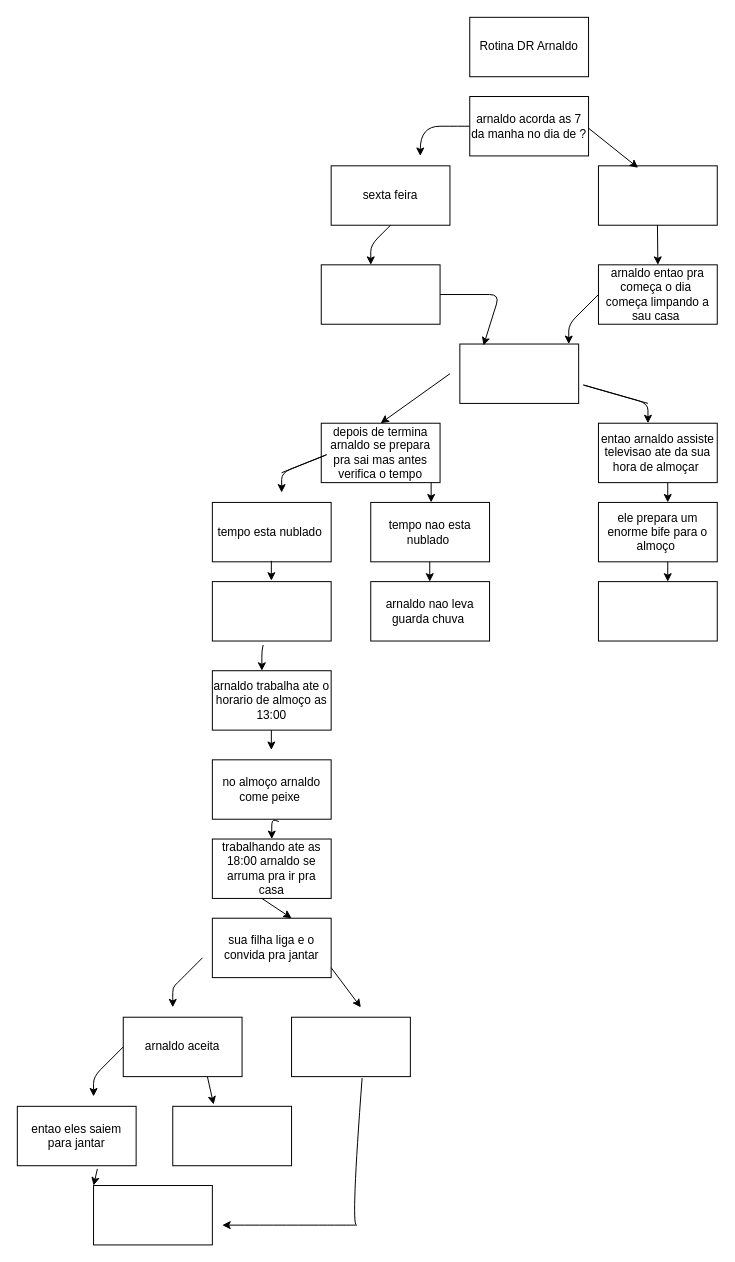
This 735x1262 diagram has some shape labels left out. The shapes that lost their labels are listed below. From the top down, each one's centre as x and y in pixels, then its label:
At [657,195]: "sabado".
At [380,294]: "arnaldo acorda pela manha e toma um banho pra começa o dia".
At [519,373]: "aposta se arruma toma um cafe entre as 7:50 e 8:00".
At [271,611]: "arnaldo leva um guarda chuva para o trabalho".
At [657,611]: "no dia ele tira para assistir um filme que estava adiando tanto".
At [350,1046]: "arnaldo prefere fica em casa e comer em casa".
At [232,1135]: "entao arnaldo as 21:00 se prepara para deita com um belo banho".
At [152,1215]: "arnaldo dorme depois de um dia produtivo e cansativo".
